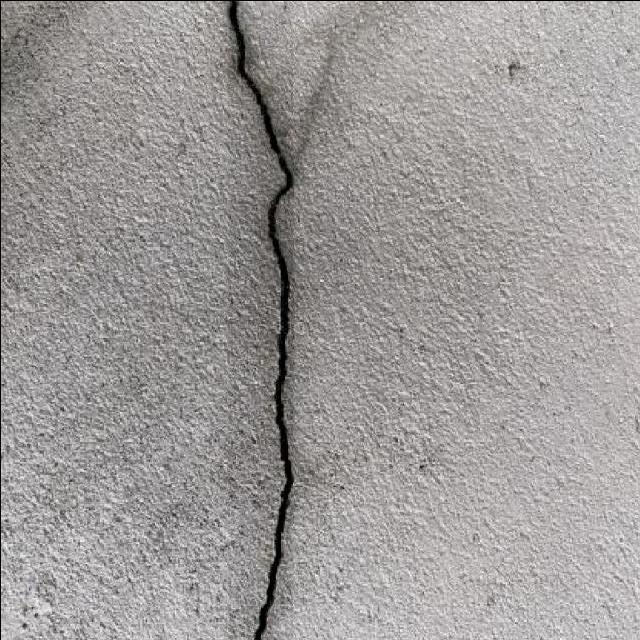Crack: (228, 1, 297, 638)
